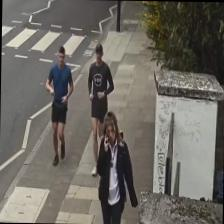person: (94, 109, 138, 224), (86, 44, 114, 175), (44, 46, 74, 164)
